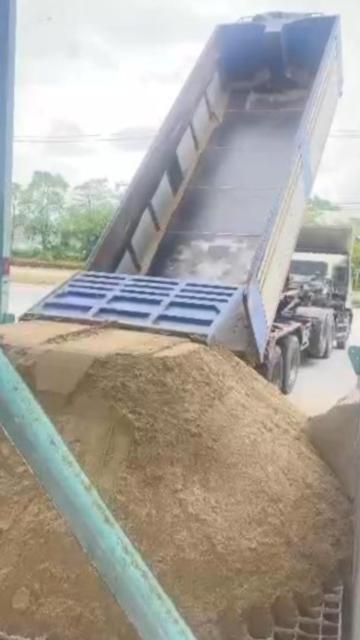sand: (2, 323, 349, 640), (0, 407, 142, 640), (306, 387, 360, 502)
